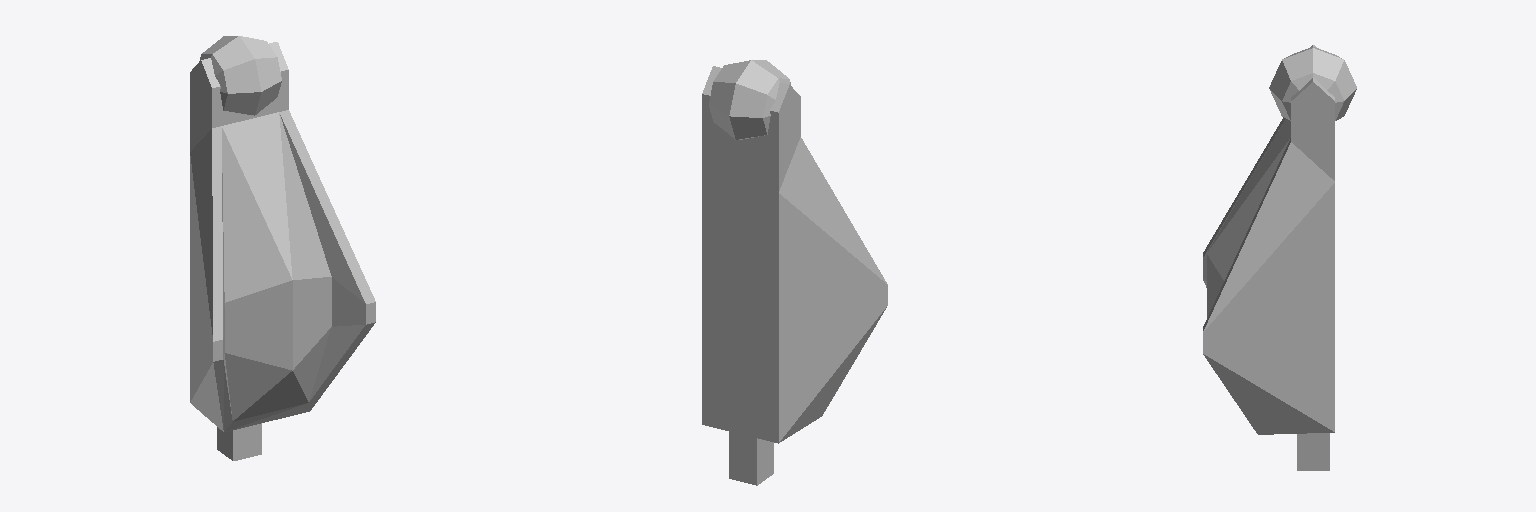
The model's file is guurahk_lleg.obj.
The picture shows the model from 3 angles: view 1: azimuth 30°, elevation 25°; view 2: azimuth 150°, elevation 25°; view 3: azimuth 270°, elevation 25°; orthographic projection.
Visible parts, largest first — view 1: 3.006_3.008; view 2: 3.006_3.008; view 3: 3.006_3.008.
Boxes of the visible parts, x1=… form: 3.006_3.008: x1=190, y1=36, x2=375, y2=460; 3.006_3.008: x1=702, y1=60, x2=887, y2=485; 3.006_3.008: x1=1203, y1=45, x2=1356, y2=470.
Bounding box in the file's own units: 0.3984 × 0.9727 × 0.3281.